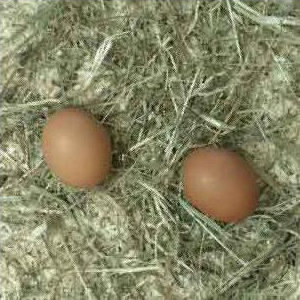egg: (182, 146, 258, 223), (43, 107, 114, 187)
